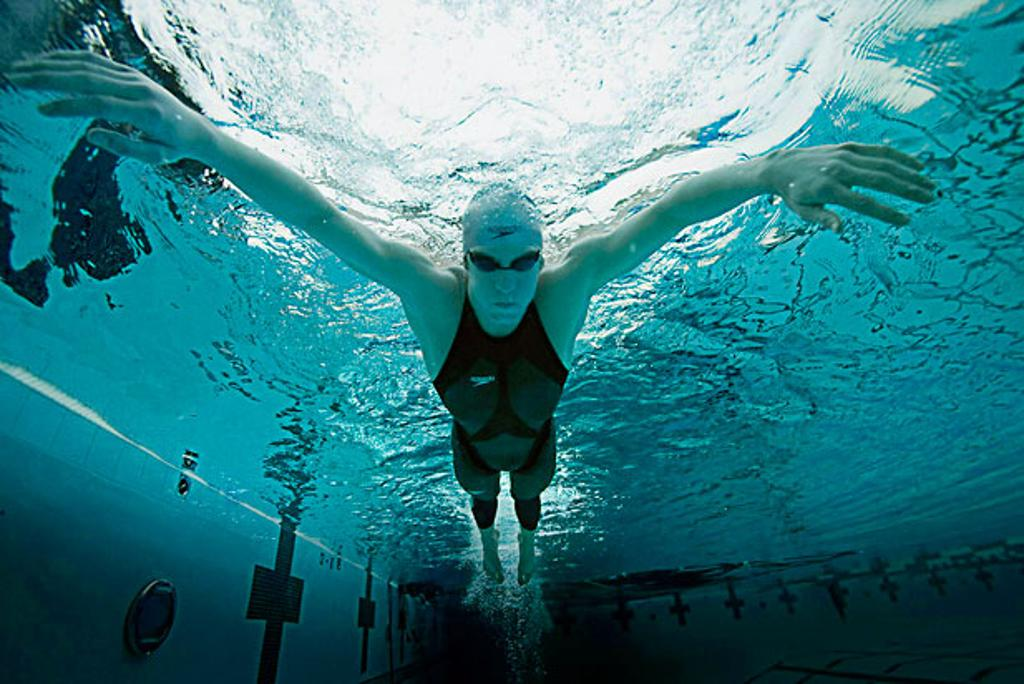face: (462, 230, 542, 328)
